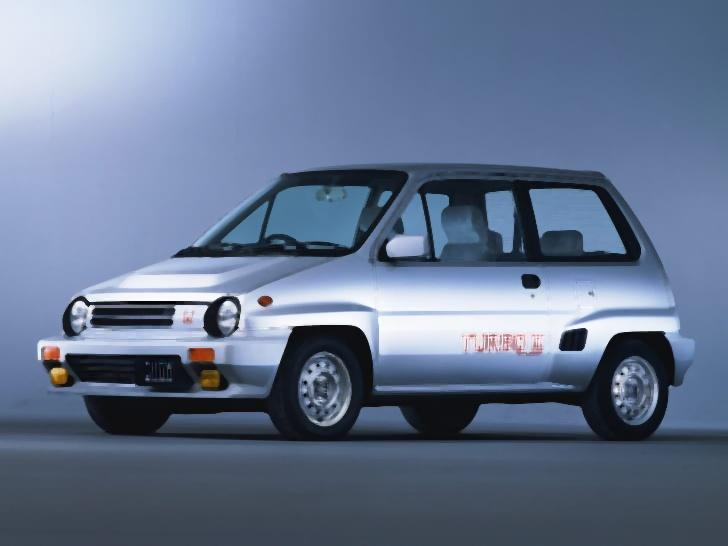Car hood: (73, 250, 342, 304)
Fender - -F-L-: (238, 241, 404, 383)
Fender - -R-L-: (551, 221, 678, 408)
Front bumper: (28, 336, 294, 412)
Headlight - -L-: (205, 288, 243, 340)
Headlight - -R-: (58, 296, 95, 340)
Passenger-s door - -F-L-: (357, 155, 549, 398)
Rear bumper: (658, 332, 705, 398)
Side bumper - -L-: (351, 366, 601, 425)
Side mirror - -L-: (372, 235, 433, 275)
